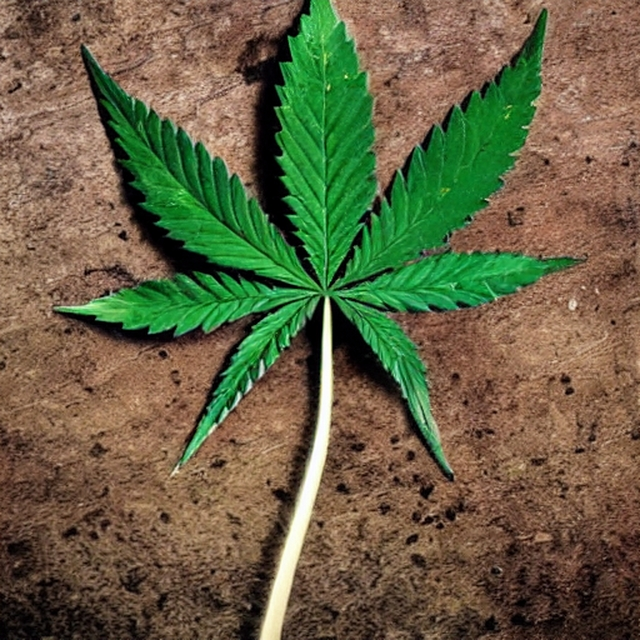Marijuana Leaf: (51, 0, 586, 639), (51, 0, 586, 486)
